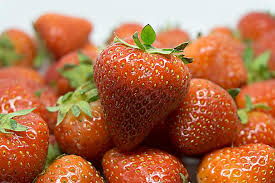Fresa: (92, 37, 191, 153), (162, 73, 243, 156), (52, 90, 116, 160), (100, 139, 194, 183), (1, 107, 51, 182), (198, 144, 275, 183), (32, 151, 106, 183)
